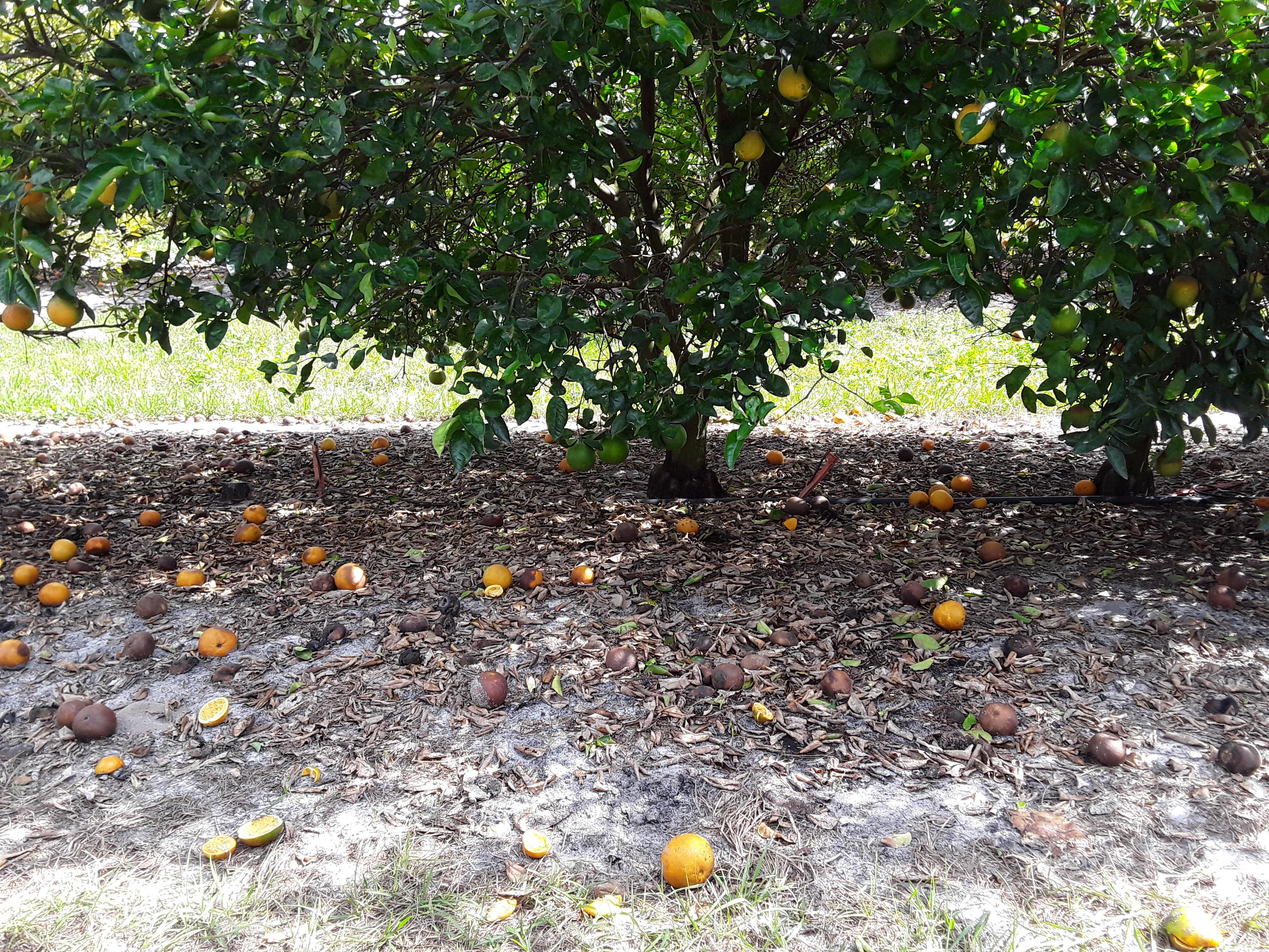fruit_on_ground: (954, 102, 998, 144), (864, 30, 906, 73), (1038, 121, 1081, 161), (1042, 298, 1082, 335), (1159, 200, 1197, 238), (47, 292, 85, 328), (779, 62, 813, 102), (1165, 273, 1203, 308), (201, 0, 243, 31), (732, 128, 767, 163), (22, 191, 58, 225), (313, 186, 348, 220), (565, 439, 598, 473), (1, 301, 37, 332), (597, 434, 631, 466), (1238, 271, 1269, 305), (638, 334, 667, 363), (202, 43, 238, 66), (1061, 329, 1090, 357), (659, 425, 690, 451), (1153, 453, 1185, 478), (139, 0, 171, 25), (1068, 404, 1096, 430), (17, 183, 44, 208), (96, 181, 122, 206), (1134, 341, 1161, 365), (193, 241, 218, 261), (6, 162, 29, 182), (898, 292, 918, 312), (460, 350, 480, 368), (428, 368, 447, 385), (298, 329, 318, 345), (650, 429, 664, 451), (1109, 339, 1126, 355), (883, 286, 898, 303), (437, 344, 453, 358), (425, 351, 439, 365), (1052, 3, 1065, 18), (1025, 217, 1040, 228)
fruit_on_tree: (661, 831, 717, 890), (1167, 904, 1223, 952), (71, 702, 119, 744), (1216, 738, 1262, 777), (977, 700, 1021, 740), (236, 813, 286, 848), (1087, 730, 1127, 769), (471, 671, 509, 710), (198, 625, 239, 660), (55, 695, 95, 730), (711, 661, 746, 693), (931, 599, 967, 630), (122, 630, 156, 662), (200, 834, 238, 862), (582, 894, 624, 919), (1002, 633, 1038, 662), (335, 561, 369, 591), (820, 669, 854, 699), (198, 697, 231, 727), (520, 828, 552, 858), (1213, 565, 1249, 591), (605, 645, 638, 673), (134, 591, 168, 618), (1206, 584, 1238, 612), (0, 640, 29, 670), (481, 564, 514, 590), (208, 663, 247, 684), (898, 579, 928, 606), (37, 583, 72, 606), (486, 898, 518, 922), (93, 754, 126, 777), (230, 712, 259, 738), (51, 537, 78, 564), (1003, 574, 1031, 600), (977, 541, 1008, 564), (927, 489, 955, 514), (233, 522, 261, 546), (12, 564, 40, 588), (167, 656, 200, 676), (301, 544, 328, 567), (176, 569, 207, 589), (83, 536, 112, 557), (613, 521, 639, 544), (399, 614, 430, 633), (432, 614, 456, 638), (741, 653, 771, 672), (65, 557, 96, 575), (243, 504, 269, 525), (309, 572, 335, 593), (759, 820, 783, 842), (570, 565, 595, 586), (323, 622, 348, 643), (769, 629, 799, 646), (752, 702, 775, 724), (437, 595, 461, 616), (398, 647, 423, 667), (156, 554, 179, 575), (521, 569, 544, 590), (1073, 478, 1097, 498), (785, 496, 809, 516), (479, 512, 505, 530), (950, 474, 974, 493), (676, 518, 700, 537), (557, 456, 580, 475), (140, 510, 163, 529), (301, 765, 323, 784), (688, 684, 715, 699), (908, 489, 928, 509), (234, 459, 257, 476), (79, 521, 103, 537), (765, 449, 785, 468), (811, 495, 831, 513), (855, 572, 875, 590), (929, 484, 953, 498), (692, 636, 713, 652), (483, 584, 505, 598), (2, 505, 25, 518), (1208, 455, 1225, 472), (13, 522, 35, 535), (370, 436, 390, 450), (372, 452, 390, 467), (969, 497, 988, 511), (1252, 496, 1269, 511), (937, 463, 955, 477), (67, 481, 88, 493), (898, 446, 914, 461), (7, 492, 27, 504), (784, 516, 799, 532), (36, 452, 53, 466), (34, 438, 57, 448), (319, 438, 338, 450), (1009, 328, 1024, 343), (833, 412, 849, 425), (48, 430, 64, 443), (774, 423, 789, 436), (977, 441, 993, 453), (152, 440, 169, 451), (545, 433, 560, 445), (122, 434, 137, 446), (111, 443, 126, 455), (107, 418, 124, 428), (850, 404, 863, 417), (922, 439, 935, 452), (379, 413, 393, 425), (281, 415, 296, 426), (196, 442, 212, 452), (718, 415, 731, 427), (237, 416, 256, 424), (185, 464, 204, 472), (220, 457, 235, 467), (863, 411, 875, 423), (124, 448, 140, 457), (400, 425, 413, 436), (267, 604, 278, 617), (177, 474, 197, 481), (192, 413, 207, 422), (774, 408, 786, 419), (413, 473, 424, 484), (796, 413, 811, 421), (362, 414, 377, 422), (301, 414, 313, 424), (69, 432, 81, 442), (173, 413, 186, 422), (215, 427, 231, 434), (289, 432, 305, 439), (101, 451, 115, 459), (884, 413, 896, 422), (208, 413, 220, 422), (237, 430, 252, 437), (211, 434, 226, 441), (3, 438, 16, 446), (179, 459, 192, 467), (31, 427, 42, 436), (184, 415, 196, 423), (315, 414, 324, 424), (260, 415, 270, 424), (22, 418, 32, 427), (405, 415, 416, 423), (961, 419, 972, 427), (66, 415, 78, 422), (129, 418, 139, 426), (89, 422, 99, 430), (1001, 238, 1011, 246), (64, 420, 77, 426), (223, 413, 232, 421), (811, 414, 820, 422), (330, 420, 339, 428), (972, 419, 982, 426), (910, 415, 918, 423), (157, 415, 166, 422), (402, 412, 410, 419), (422, 415, 429, 423), (97, 280, 105, 287), (16, 433, 26, 438), (0, 432, 7, 439), (76, 420, 85, 425), (193, 264, 201, 269), (35, 275, 43, 280), (219, 273, 225, 279), (54, 271, 61, 276), (61, 425, 69, 429), (124, 418, 130, 423), (208, 273, 214, 278), (168, 271, 173, 275)
